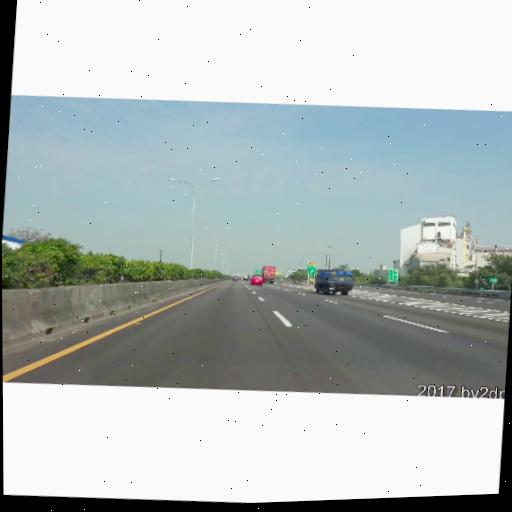Car: (313, 267, 355, 298), (261, 264, 275, 284), (250, 273, 263, 286), (243, 275, 248, 281), (233, 275, 239, 280)
